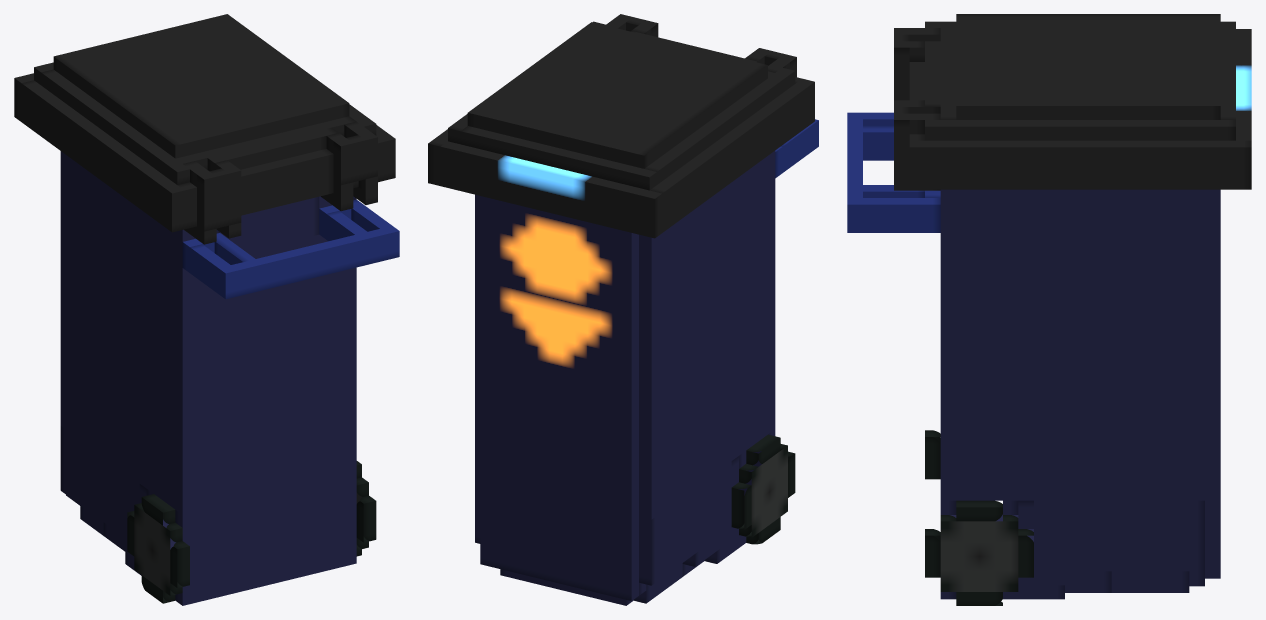
The model's file is smietni9k_nowy.dae.
3 views of the same model, side by side, from view 1: azimuth 30°, elevation 25°; view 2: azimuth 150°, elevation 25°; view 3: azimuth 270°, elevation 25° (orthographic). The views are drawn at different scales.
Parts seen in each view (by area): view 1: Content; view 2: Content; view 3: Content.
Boxes of the visible parts, x1,y1,x2,y2 form: Content: (14, 14, 399, 605); Content: (428, 14, 818, 605); Content: (847, 14, 1251, 605).
Size of the model in its own units: 18 by 35 by 26.
1 material, 1 textured.
